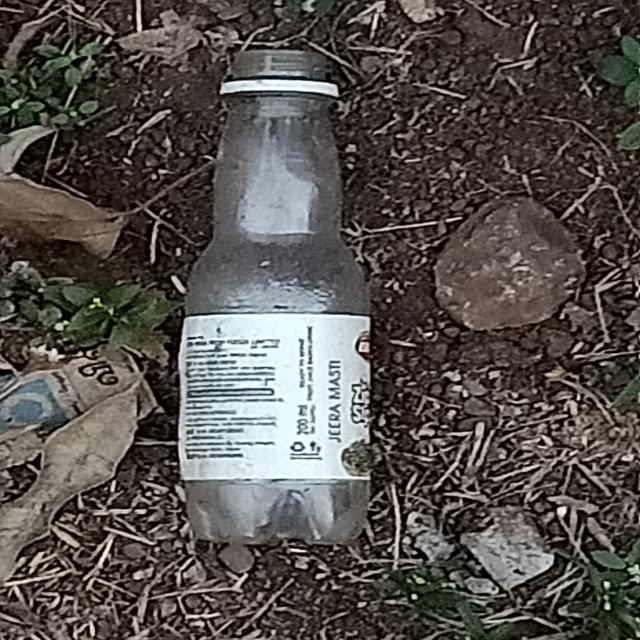chai: (178, 50, 370, 544)
